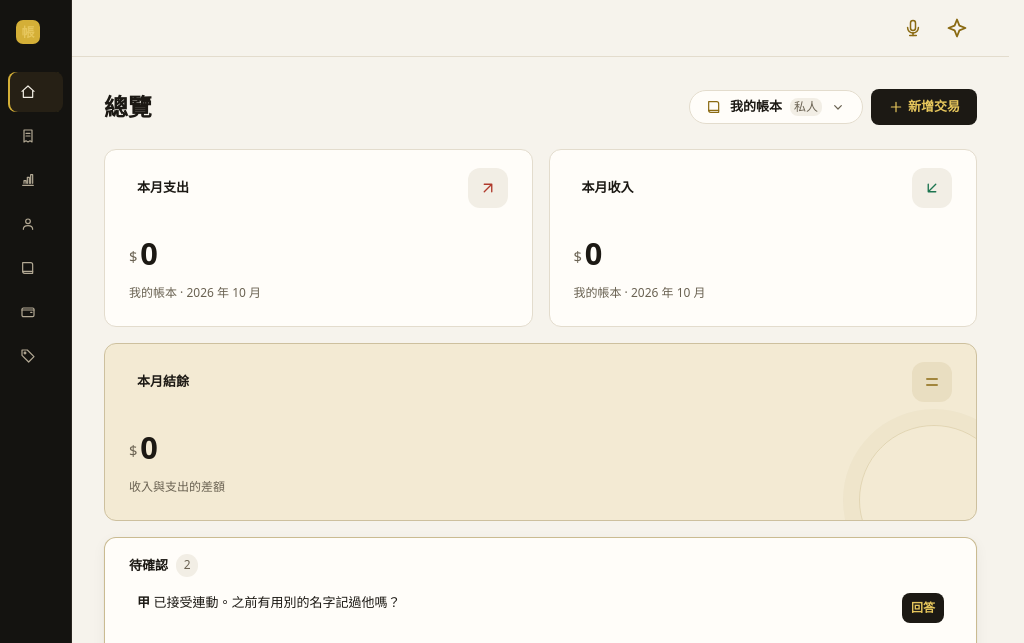
Test case: PendingCard › uses the same expanded row for merge prompts and proposals
Expected: the button "新增交易" is shown, [871, 89, 977, 125]
Click the button "回答". click: [923, 608]
box: [902, 592, 944, 622]
(page scrolled)
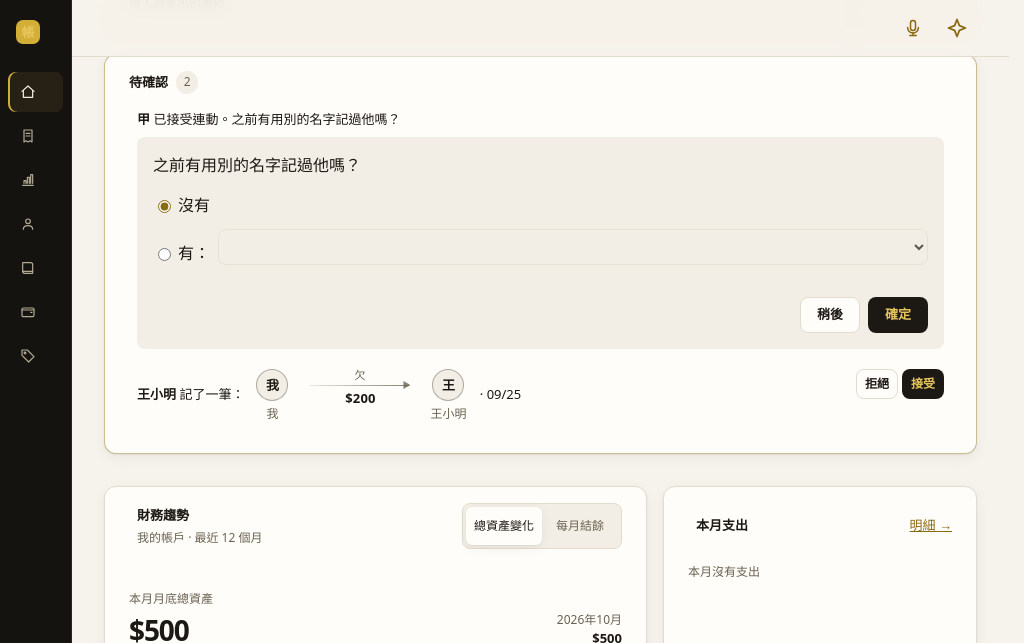
Result: the radio button labelled "沒有" is shown at [158, 200, 171, 213]
Click the button "接受". click: [923, 384]
box: [902, 369, 944, 399]
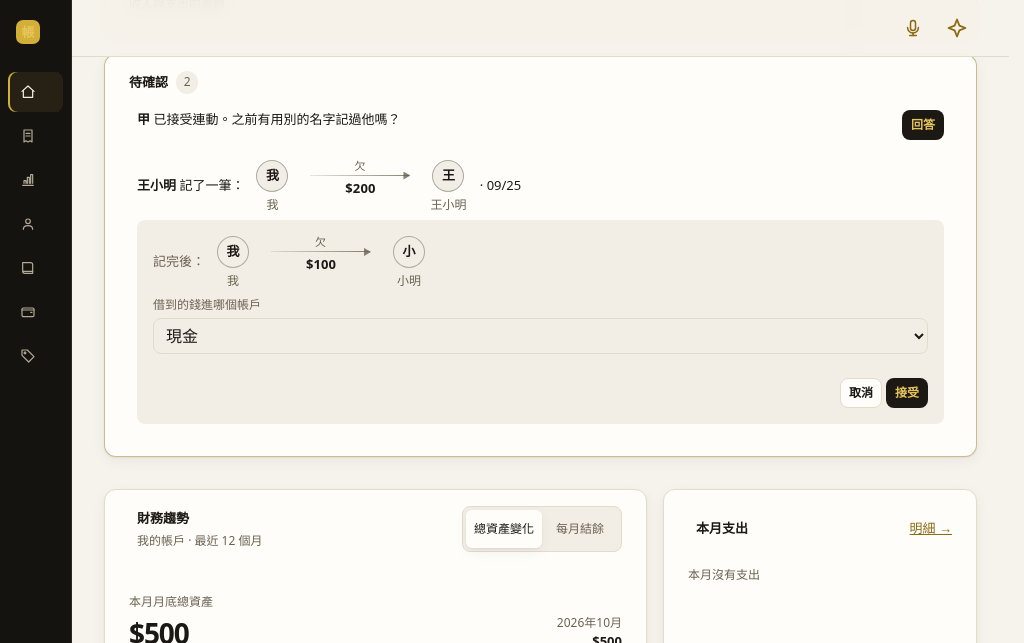
Result: the dropdown labelled "借到的錢進哪個帳戶" is shown at [153, 318, 928, 354]
Click the button "回答". click: [923, 124]
box: [902, 110, 944, 140]
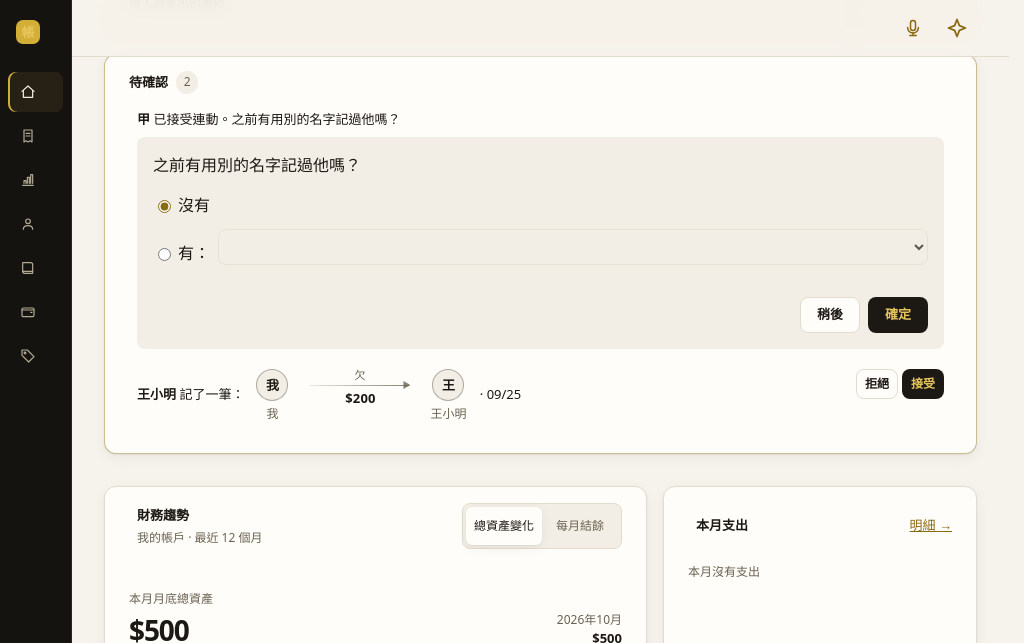
Result: the radio button labelled "沒有" is shown at [158, 200, 171, 213]
